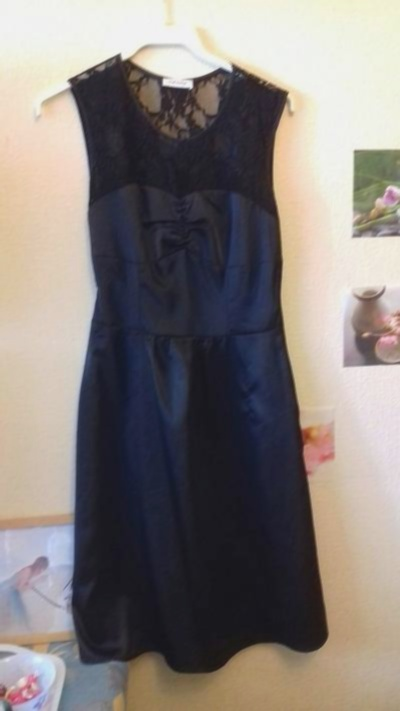Dress: (44, 29, 363, 679)
